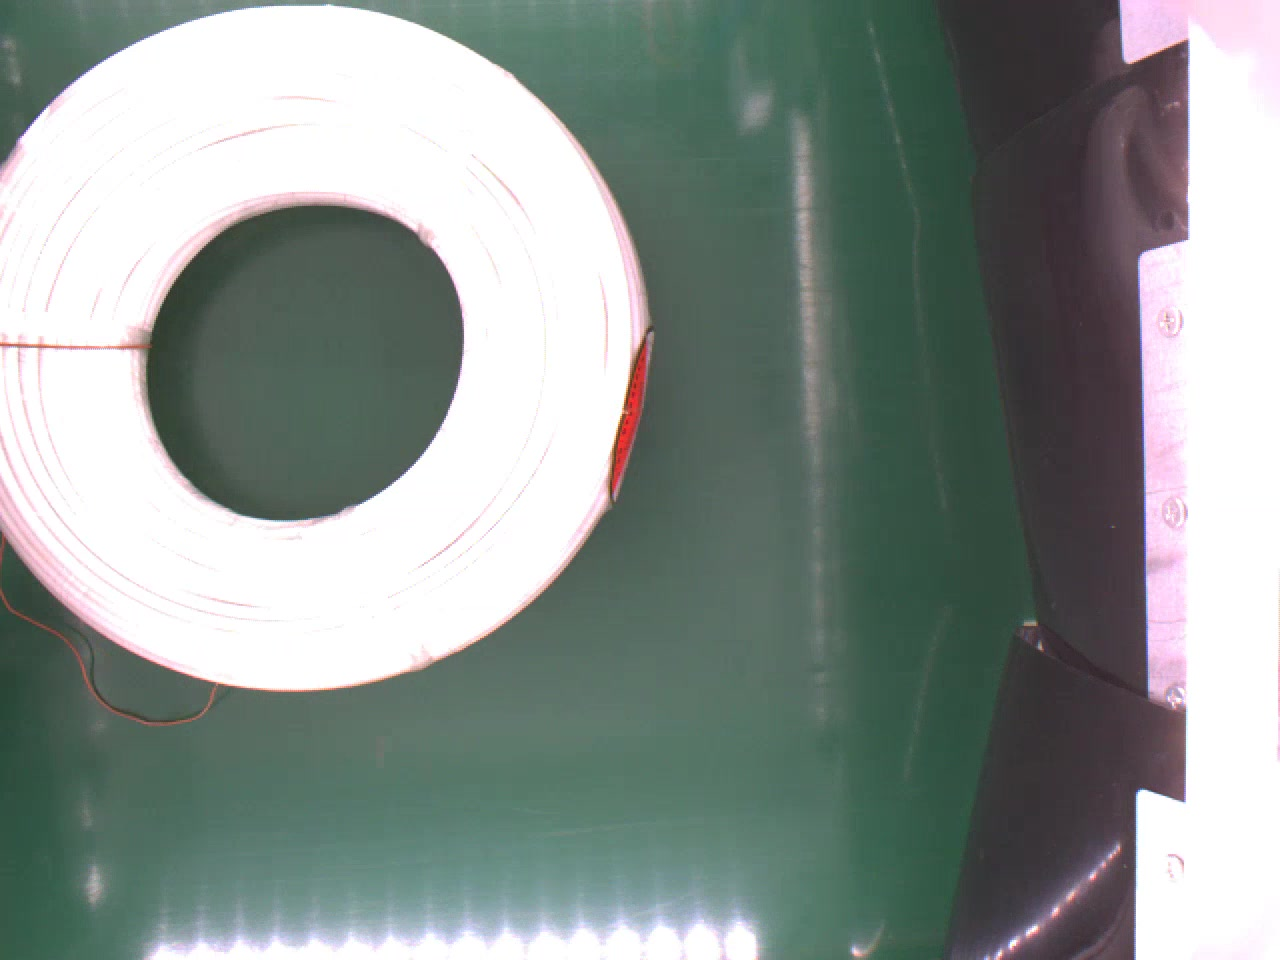white: (0, 5, 655, 683)
